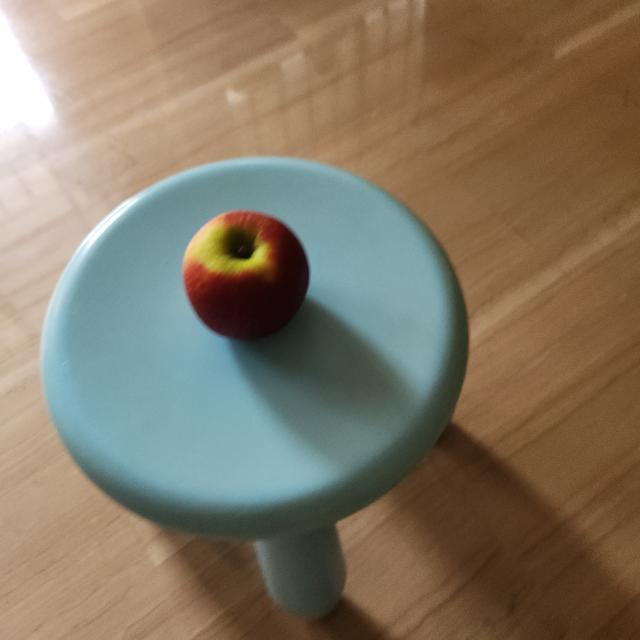apple: (176, 205, 314, 351)
